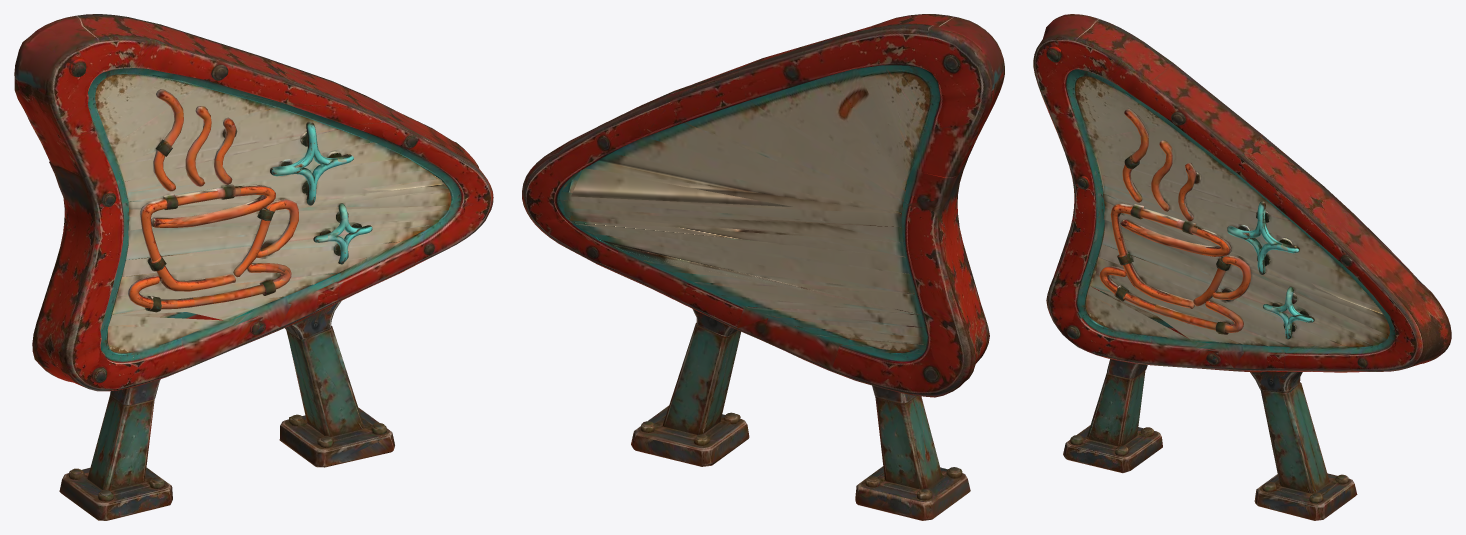
File: town_neon_b.glb
The picture shows the model from 3 angles, left to right: view 1: azimuth 30°, elevation 25°; view 2: azimuth 150°, elevation 25°; view 3: azimuth 330°, elevation 25°; orthographic projection. The views are drawn at different scales.
Size of the model in its own units: 0.9497 by 0.9389 by 0.1625.
1 material, 1 textured.
